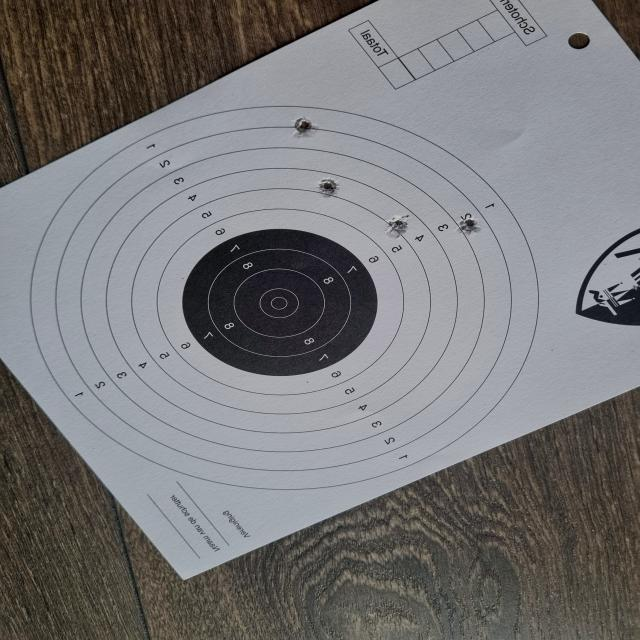2: (293, 118, 312, 137)
3: (457, 219, 479, 235)
5: (385, 214, 409, 238), (315, 179, 341, 197)
Target: (28, 111, 542, 489)
black_contour: (182, 227, 379, 376)
